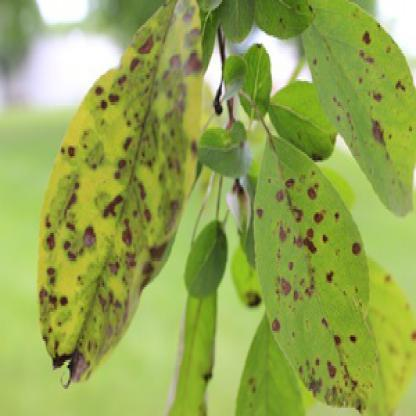Apple Scab Leaf: (28, 2, 205, 387), (251, 133, 390, 414), (288, 4, 414, 229)
